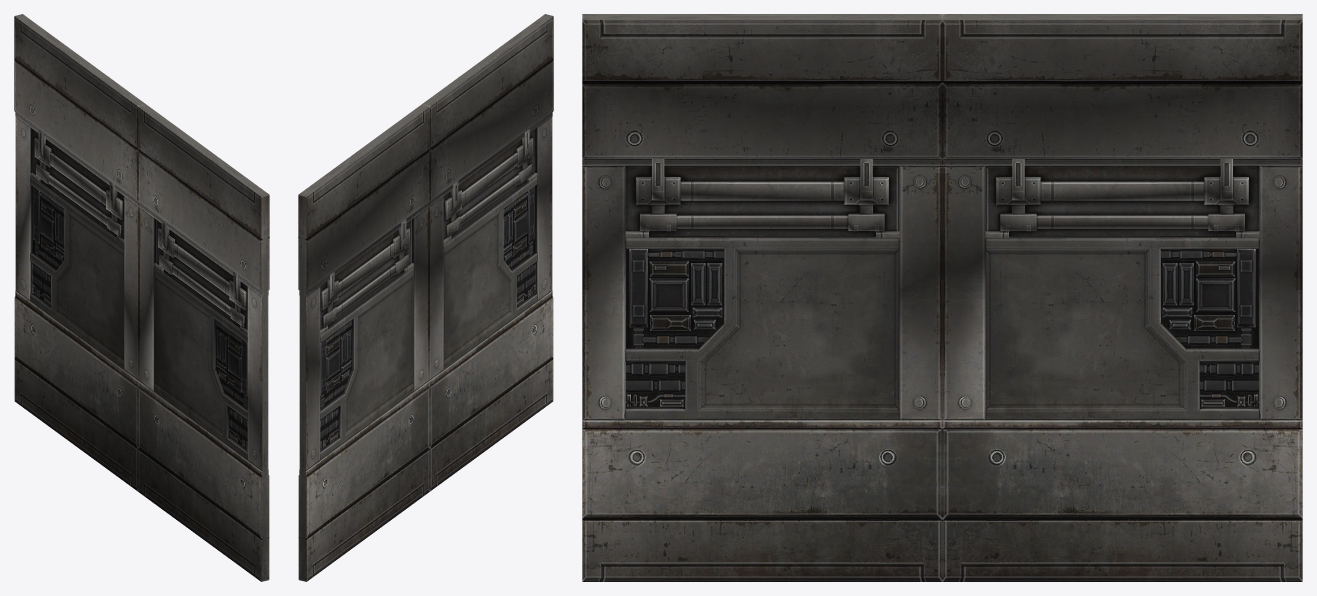
File: 02_06_elevator_front.dae
3 views of the same model, side by side, from view 1: azimuth 30°, elevation 25°; view 2: azimuth 150°, elevation 25°; view 3: azimuth 270°, elevation 25° (orthographic). The views are drawn at different scales.
Visible parts, largest first — view 1: door_part_left_front, door_part_right_front; view 2: door_part_right_front, door_part_left_front; view 3: door_part_left_front, door_part_right_front.
Boxes of the visible parts, x1,y1,x2,y2 form: door_part_left_front: (137,104,269,581); door_part_right_front: (14,14,145,491); door_part_right_front: (298,104,430,581); door_part_left_front: (422,14,553,491); door_part_left_front: (582,14,942,581); door_part_right_front: (942,14,1302,581).
Bounding box in the file's own units: 0.069 × 3 × 3.49.
